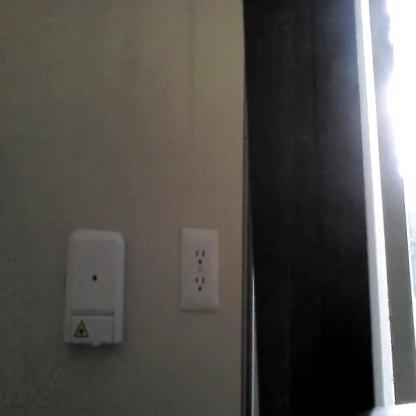OUTLET: (178, 226, 221, 313)
